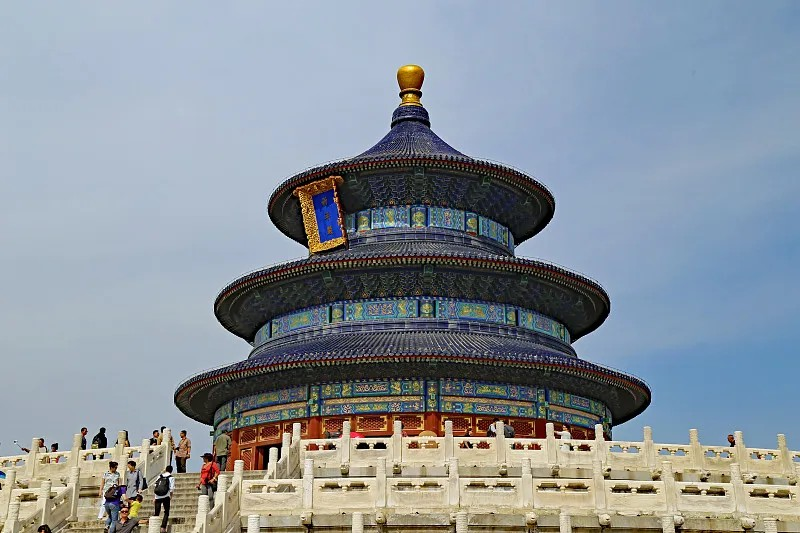Heaven: (173, 65, 652, 471)
